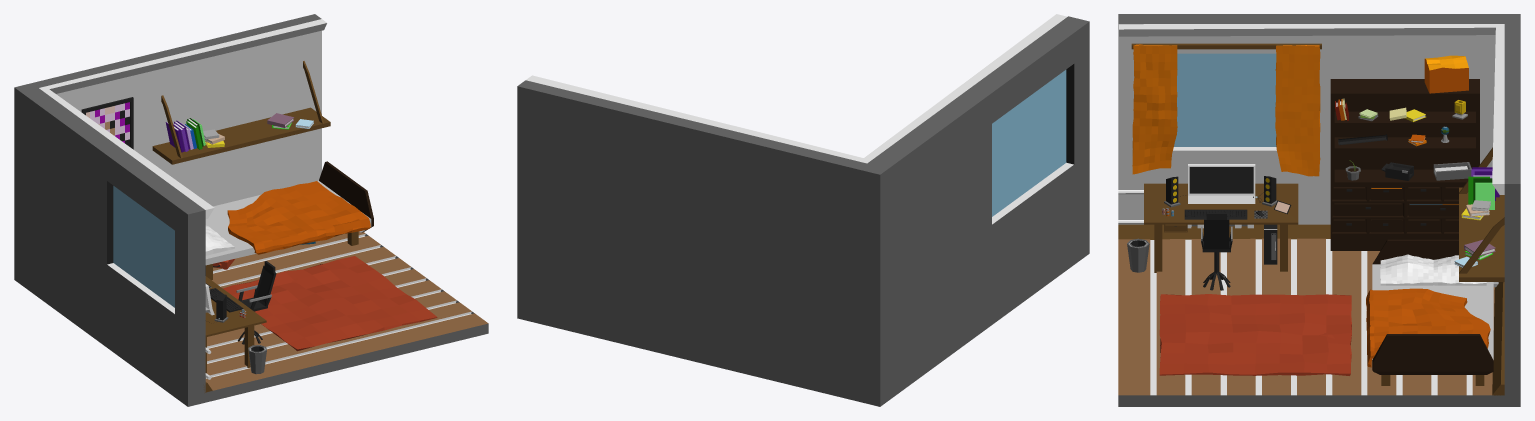
The model's file is low_poly_living_room.glb.
3 views of the same model, side by side, from view 1: azimuth 30°, elevation 25°; view 2: azimuth 150°, elevation 25°; view 3: azimuth 270°, elevation 25° (orthographic). The views are drawn at different scales.
Parts seen in each view (by area): view 1: Plane; view 2: Plane; view 3: Plane.
Part boxes in pixels (left/top/right/bottom): Plane: left=14, top=14, right=488, bottom=406; Plane: left=517, top=14, right=1089, bottom=406; Plane: left=1118, top=14, right=1520, bottom=406.
Size of the model in its own units: 400 by 245 by 400.
1 material, 1 textured.
